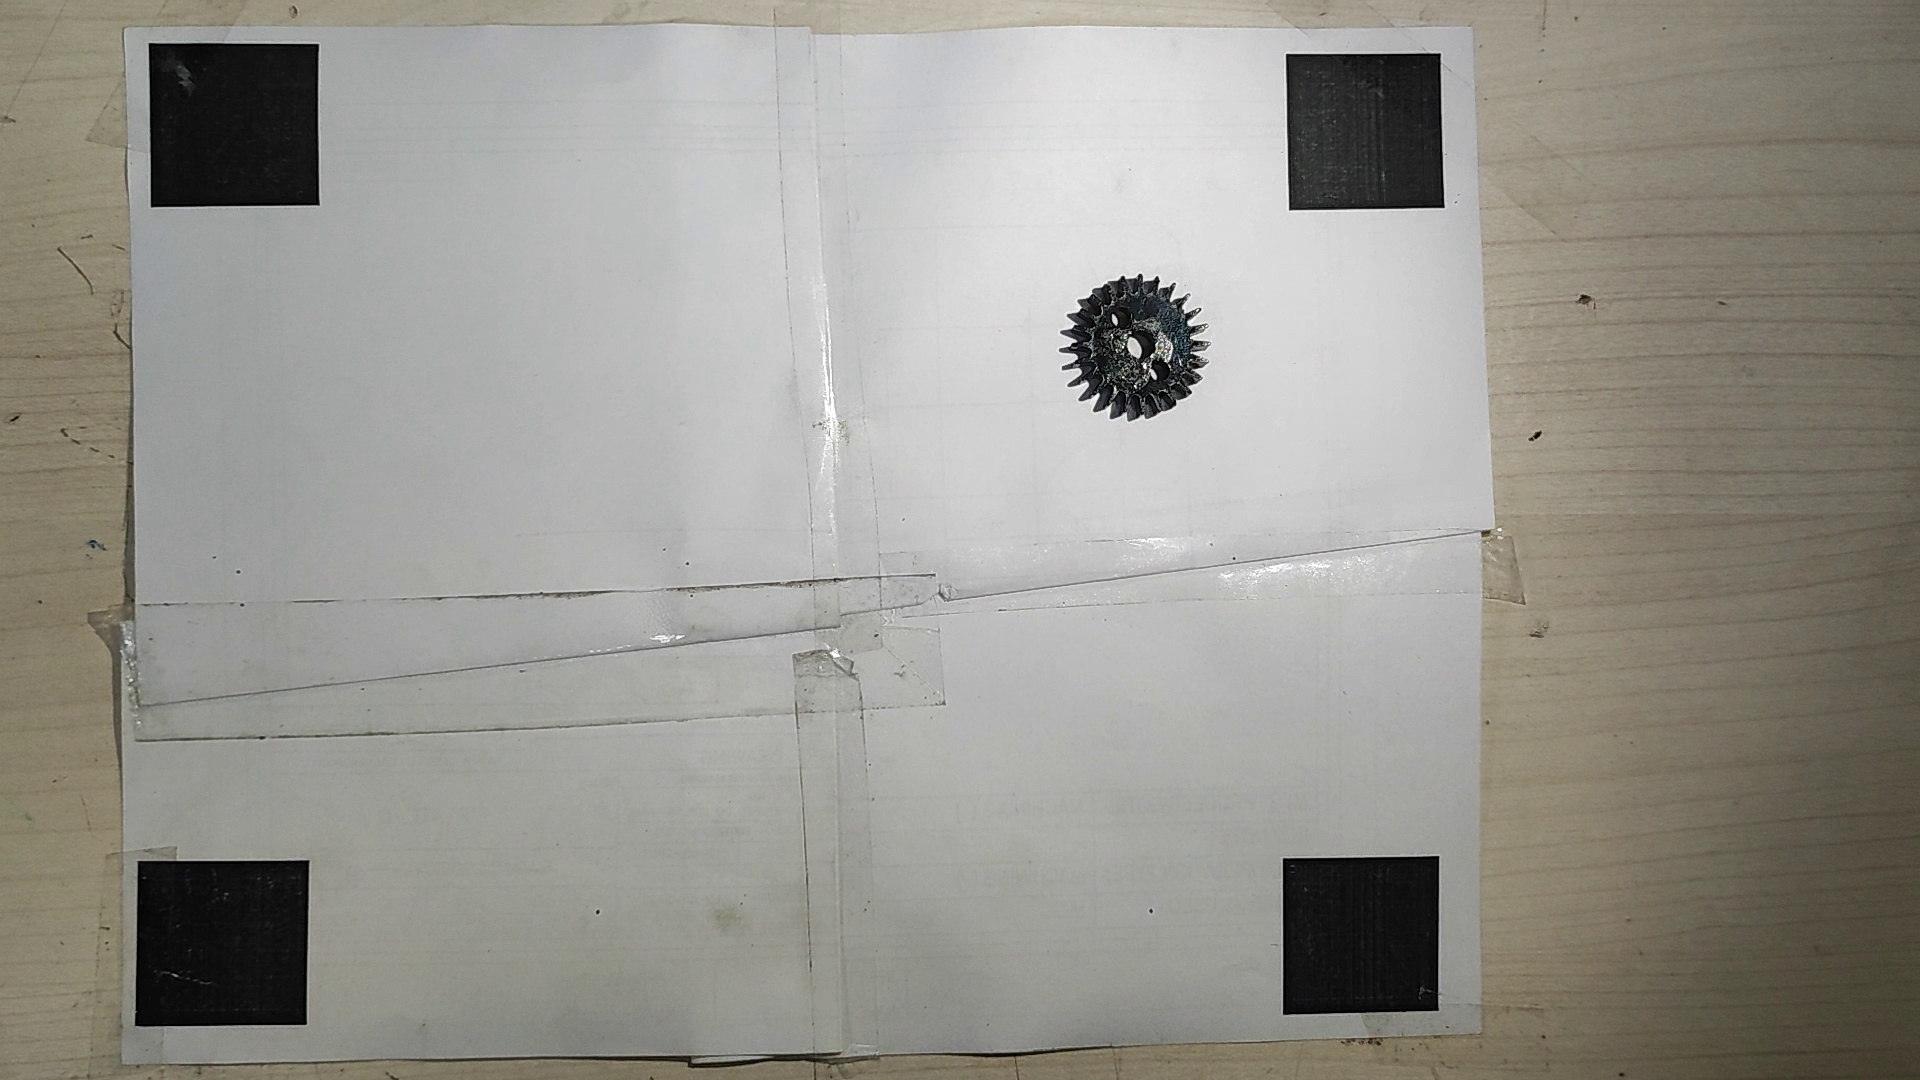Gear: (1060, 268, 1215, 425)
